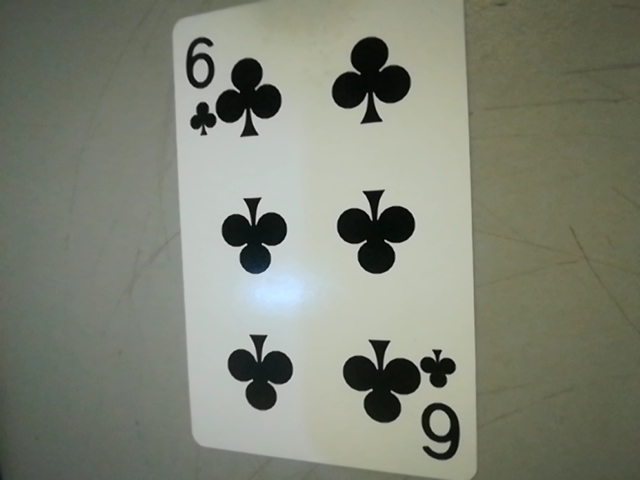mh 6: (411, 342, 473, 471)
